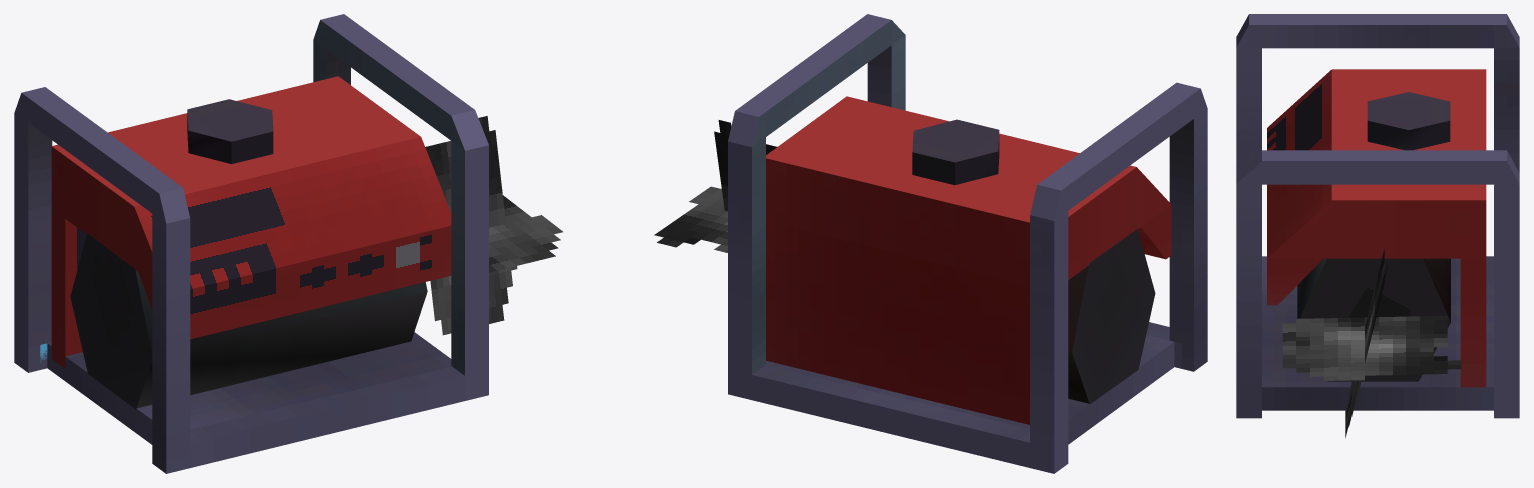
Rendered from generator_model_single_object.glb.
The picture shows the model from 3 angles, left to right: view 1: azimuth 30°, elevation 25°; view 2: azimuth 150°, elevation 25°; view 3: azimuth 270°, elevation 25°; orthographic projection. The views are drawn at different scales.
Parts seen in each view (by area): view 1: cuboid, plane; view 2: cuboid, plane; view 3: cuboid, plane.
Boxes of the visible parts, x1,y1,x2,y2 form: cuboid: (14,14,488,473); plane: (425,116,562,335); cuboid: (728,14,1207,473); plane: (654,120,776,252); cuboid: (1236,14,1519,418); plane: (1282,248,1461,438).
Size of the model in its own units: 2.32 by 1.45 by 1.38.
Materials: 2 (2 with a texture image).
